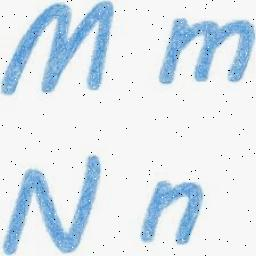m: (0, 1, 118, 99)
n: (0, 148, 112, 256)
